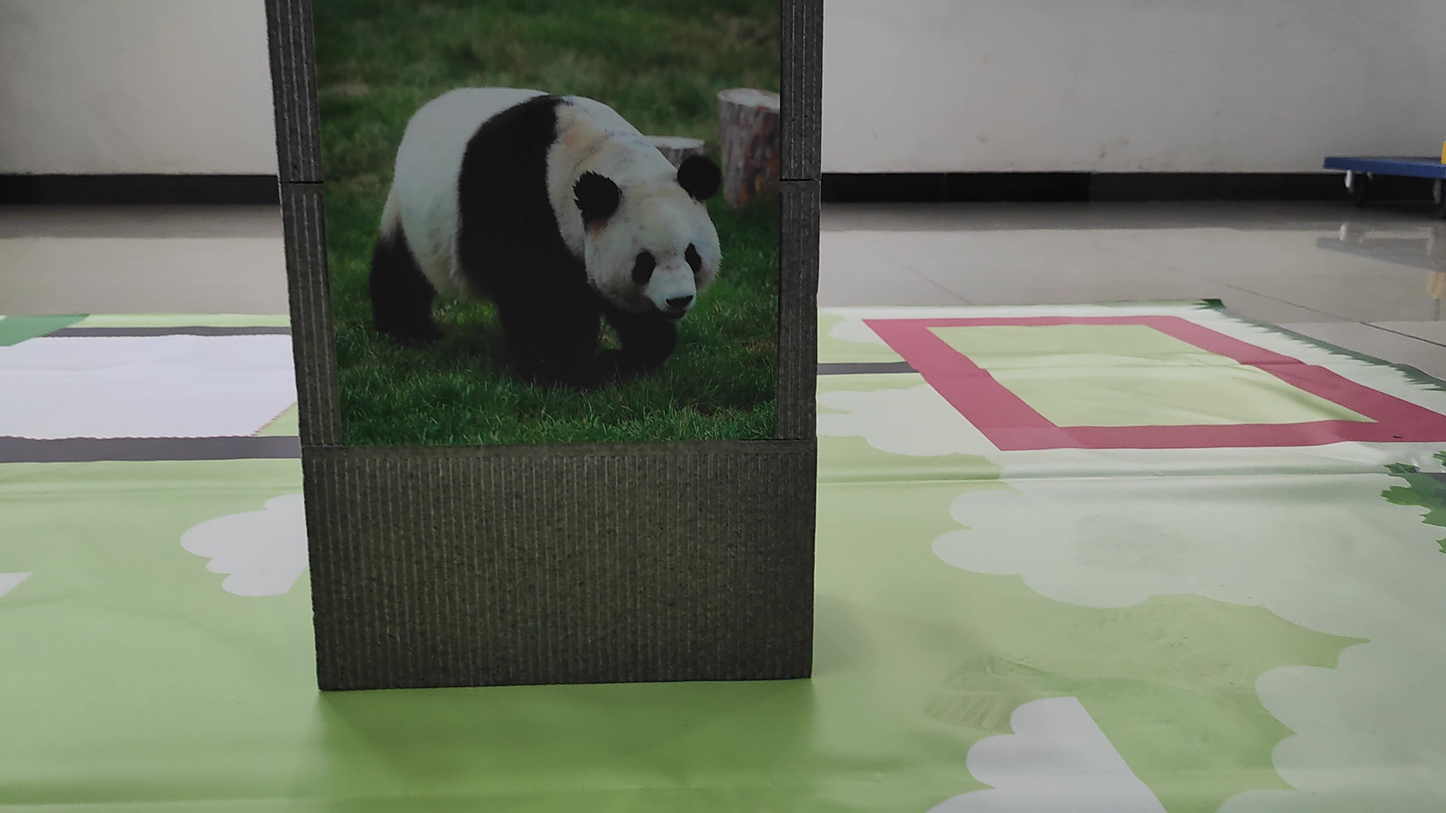panda: (323, 38, 803, 445)
